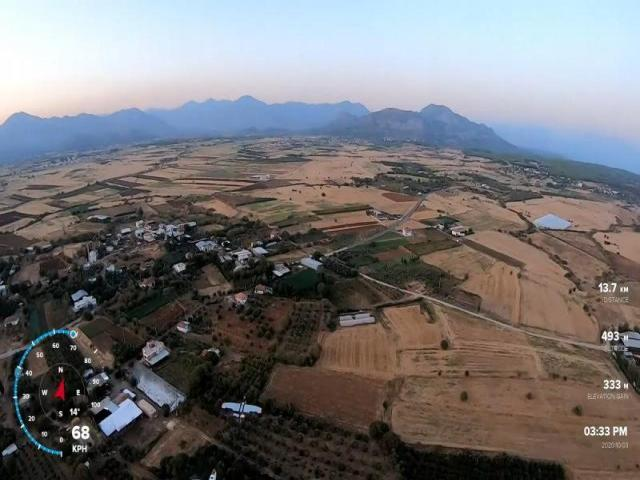hedef: (220, 390, 264, 424)
